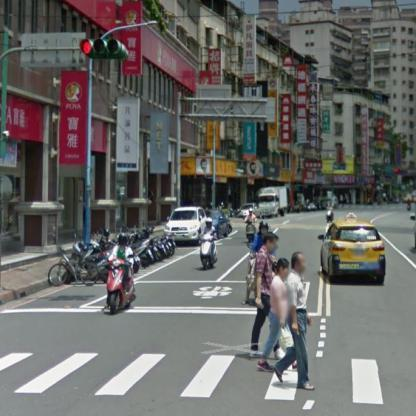Red Light: (79, 38, 127, 58)
